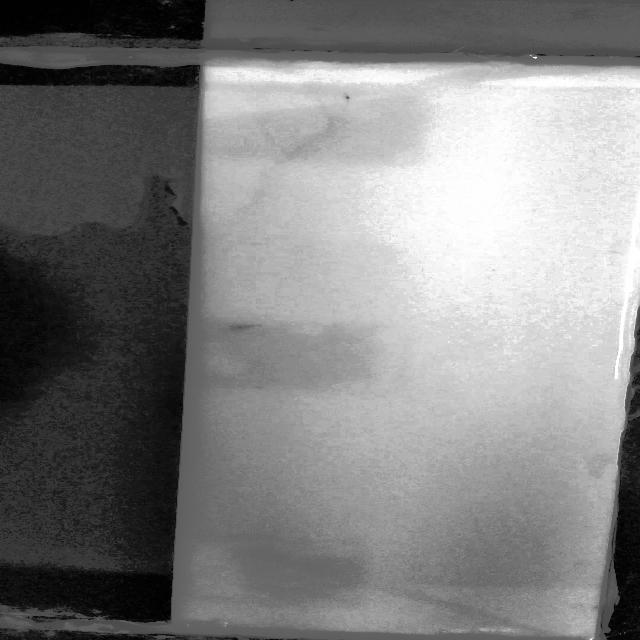shrimp: (224, 320, 273, 332), (334, 89, 360, 108)
